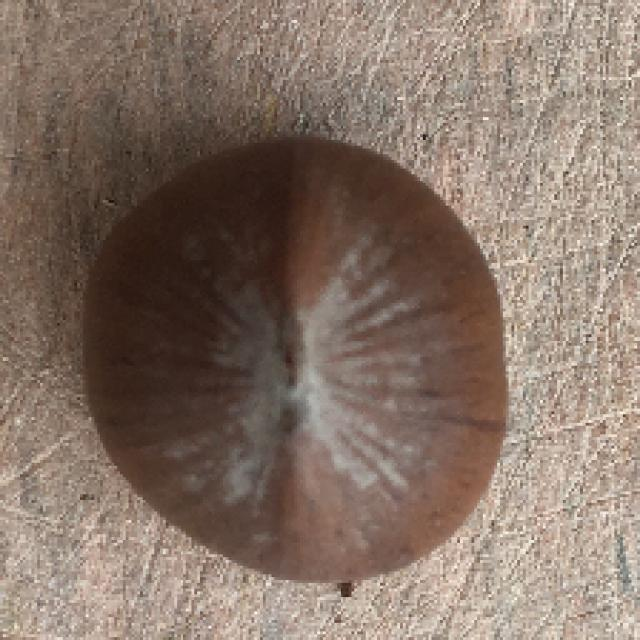qualityHazelnut: (79, 132, 511, 592)
